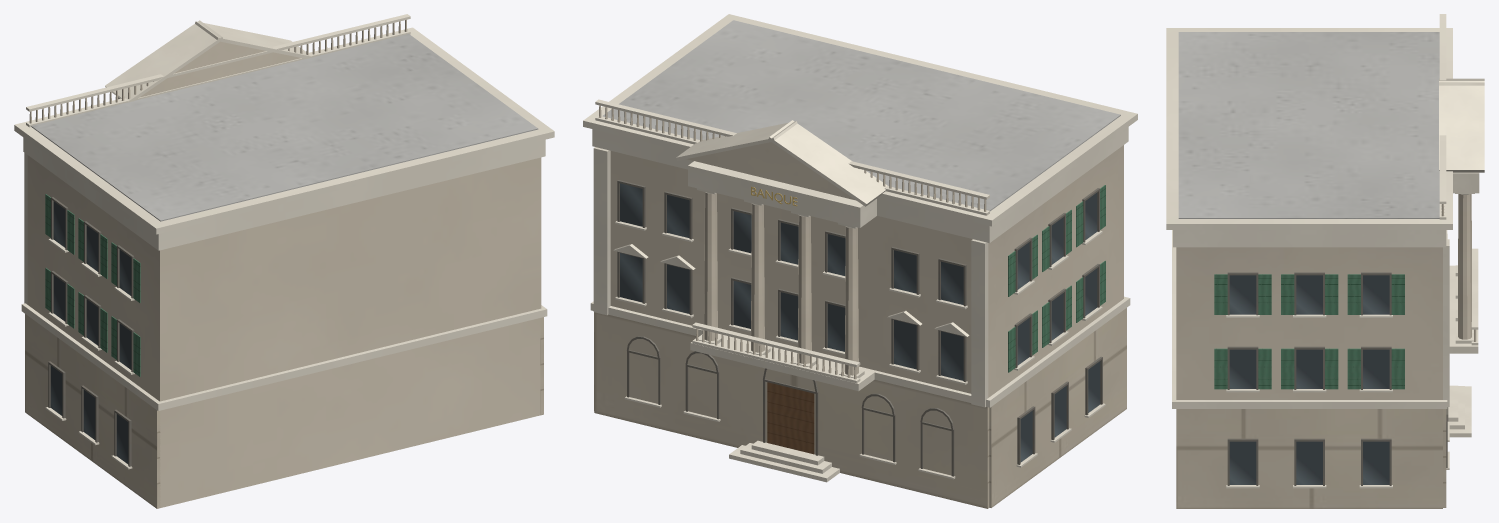
The model's file is bank-facade.glb.
The picture shows the model from 3 angles, left to right: view 1: azimuth 30°, elevation 25°; view 2: azimuth 150°, elevation 25°; view 3: azimuth 270°, elevation 25°; orthographic projection. The views are drawn at different scales.
Visible parts, largest first — view 1: bank; view 2: bank; view 3: bank.
Boxes of the visible parts, <box> form: bank: <box>14,14,554,508</box>; bank: <box>583,14,1137,508</box>; bank: <box>1166,14,1484,508</box>.
Bounding box in the file's own units: 20.9 × 16.49 × 14.33.
Materials: 1 (1 with a texture image).
